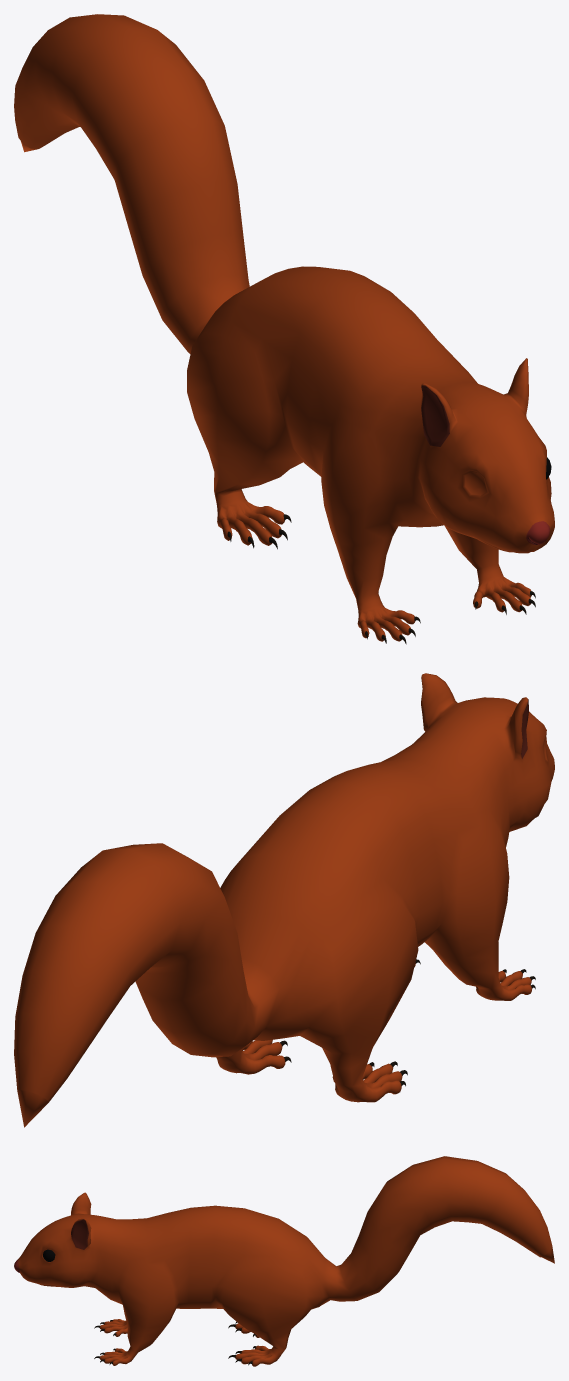
File: squirrel.obj
3 views of the same model, one above another, from view 1: azimuth 30°, elevation 25°; view 2: azimuth 150°, elevation 25°; view 3: azimuth 270°, elevation 25° (orthographic). The views are drawn at different scales.
Visible parts, largest first — view 1: squirrel; view 2: squirrel; view 3: squirrel.
Part boxes in pixels (box(x1,y1,x2,y2)): squirrel: box(14, 14, 554, 644); squirrel: box(14, 673, 554, 1127); squirrel: box(14, 1156, 554, 1366).
Size of the model in its own units: 0.0734 by 0.1424 by 0.375.
